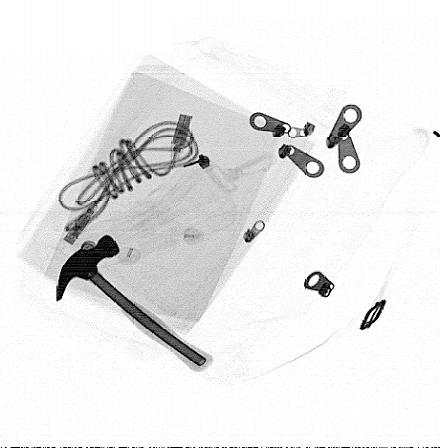Hammer: (55, 234, 213, 372)
